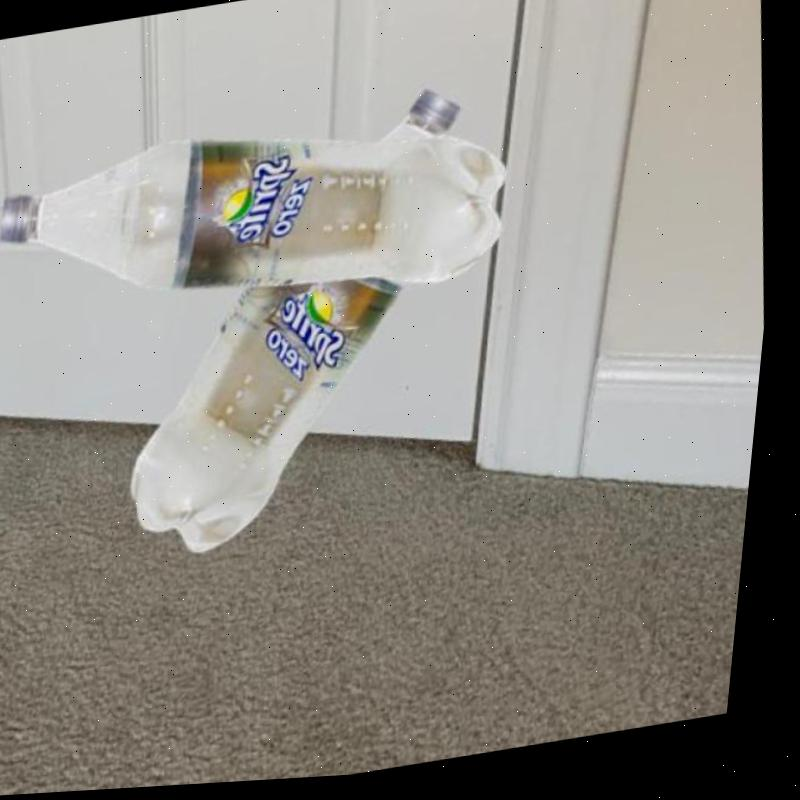botella: (95, 84, 505, 570), (0, 87, 528, 362)
